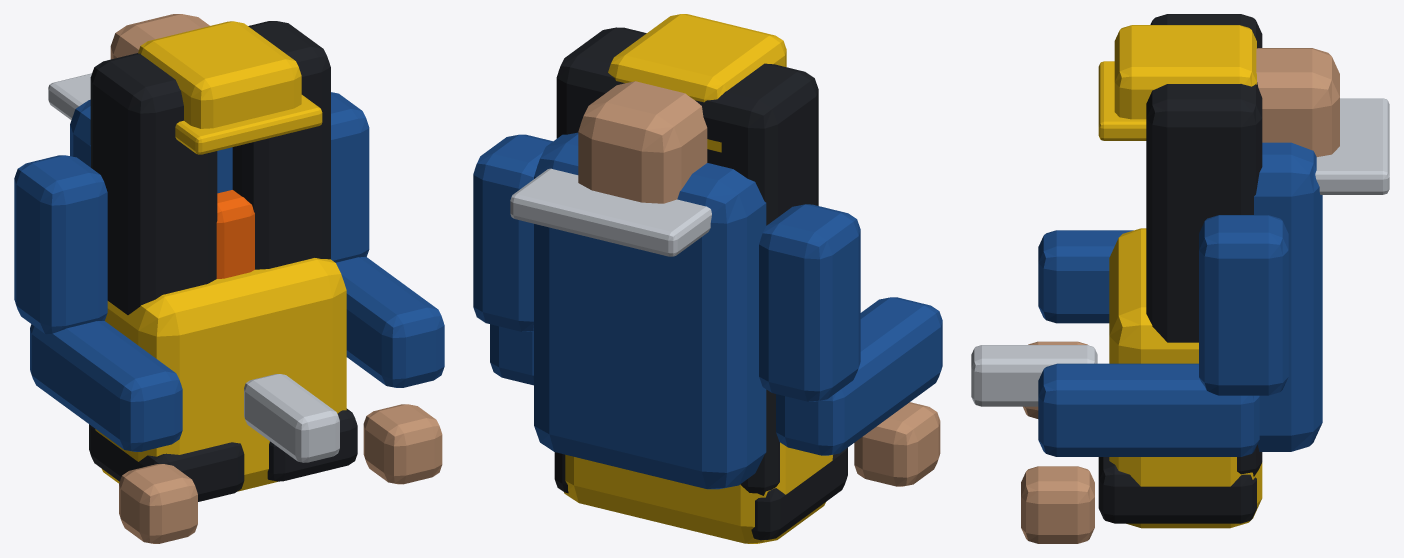
File: worker_human.obj
The picture shows the model from 3 angles, left to right: view 1: azimuth 30°, elevation 25°; view 2: azimuth 150°, elevation 25°; view 3: azimuth 270°, elevation 25°; orthographic projection. The views are drawn at different scales.
Parts seen in each view (by area): view 1: character; view 2: character; view 3: character.
Part boxes in pixels (x1,y1,x2,y2): character: [14, 14, 444, 543]; character: [473, 14, 942, 543]; character: [971, 14, 1389, 543].
Bounding box in the file's own units: 24575 × 30309 × 26010.
